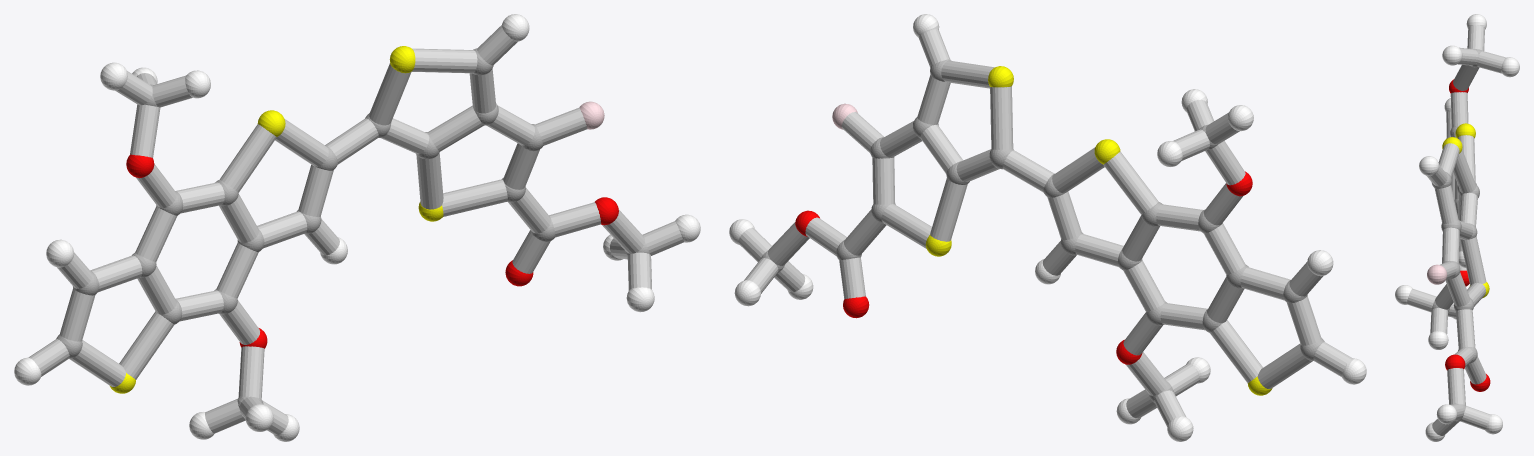
Rendered from Dimethoxy_Benzodithiophene_Phi_20_Theta_190_Methylcarbonyl_3_Fluoro_Thienothiophene.glb.
3 renders of one model, left to right at view 1: azimuth 30°, elevation 25°; view 2: azimuth 150°, elevation 25°; view 3: azimuth 270°, elevation 25°, orthographic. The views are drawn at different scales.
Visible parts, largest first — view 1: grp15205, grp8689, grp1, grp7241, grp13395; view 2: grp15205, grp8689, grp1, grp7241, grp13395; view 3: grp15205, grp8689, grp1, grp13395, grp7241, grp14843.
Boxes of the visible parts, box(x1,y1,x2,y2) form: grp15205: box(28, 25, 683, 435); grp8689: box(14, 14, 700, 441); grp1: box(56, 48, 650, 407); grp7241: box(110, 46, 443, 393); grp13395: box(126, 154, 618, 348); grp15205: box(738, 29, 1352, 426); grp8689: box(729, 14, 1366, 441); grp1: box(760, 59, 1324, 403); grp7241: box(925, 66, 1272, 395); grp13395: box(795, 171, 1252, 364); grp15205: box(1407, 25, 1506, 435); grp8689: box(1395, 14, 1519, 441); grp1: box(1431, 49, 1482, 421); grp13395: box(1445, 79, 1490, 391); grp7241: box(1442, 123, 1489, 298); grp14843: box(1427, 264, 1447, 284).
Size of the model in its own units: 16.76 by 9.26 by 3.7.
